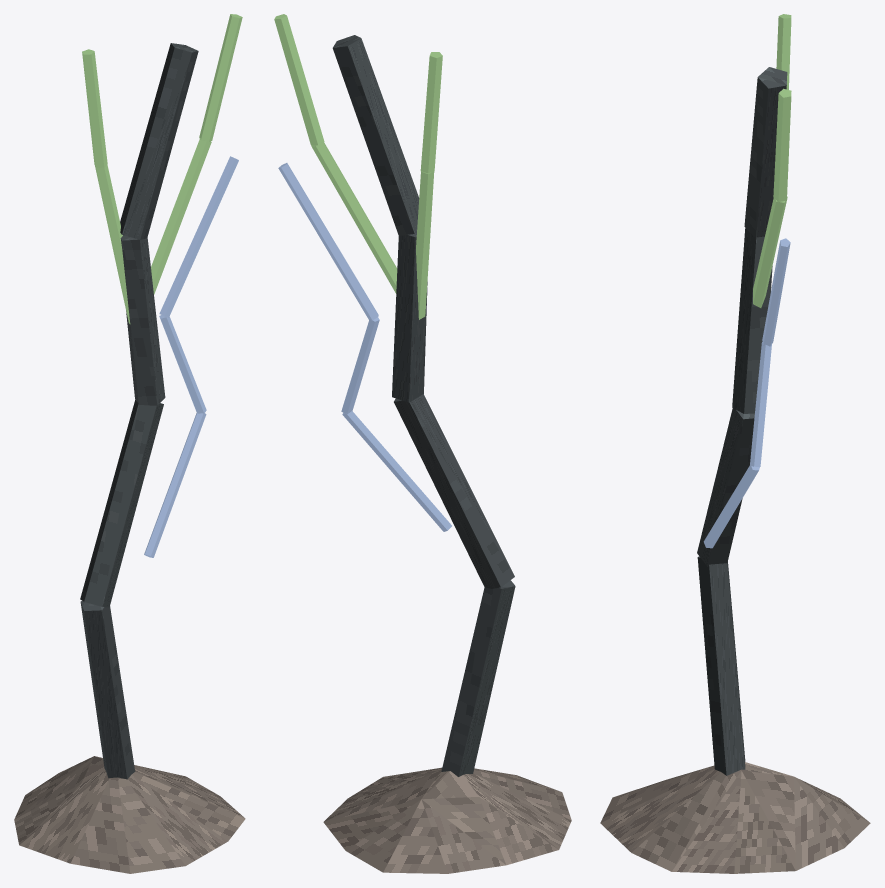
Rendered from f_alien_zapper.glb.
3 views of the same model, side by side, from view 1: azimuth 30°, elevation 25°; view 2: azimuth 150°, elevation 25°; view 3: azimuth 270°, elevation 25° (orthographic). The views are drawn at different scales.
Visible parts, largest first — view 1: block_rooted-flesh, block_arching-spine-2, block_arching-spine-4, block_arching-spine-1, block_arching-spine-3, block_luminous-feeler-1 (×2), block_luminous-feeler-2 (×2), block_branch-of-light-3, block_branch-of-light-1, block_branch-of-light-2; view 2: block_rooted-flesh, block_arching-spine-2, block_arching-spine-4, block_arching-spine-1, block_arching-spine-3, block_luminous-feeler-1 (×2), block_luminous-feeler-2 (×2), block_branch-of-light-3, block_branch-of-light-1, block_branch-of-light-2; view 3: block_rooted-flesh, block_arching-spine-1, block_arching-spine-4, block_arching-spine-3, block_arching-spine-2, block_luminous-feeler-2 (×2), block_luminous-feeler-1, block_branch-of-light-2, block_branch-of-light-3, block_branch-of-light-1.
Part boxes in pixels (x1,y1,x2,y2): block_rooted-flesh: [14, 756, 245, 873]; block_arching-spine-2: [80, 400, 163, 607]; block_arching-spine-4: [120, 43, 198, 239]; block_arching-spine-1: [80, 601, 135, 779]; block_arching-spine-3: [120, 235, 165, 405]; block_luminous-feeler-1 (×2): [95, 138, 211, 324]; block_luminous-feeler-2 (×2): [82, 14, 242, 167]; block_branch-of-light-3: [159, 156, 238, 317]; block_branch-of-light-1: [144, 413, 206, 557]; block_branch-of-light-2: [159, 315, 206, 413]; block_rooted-flesh: [323, 767, 571, 873]; block_arching-spine-2: [394, 394, 514, 588]; block_arching-spine-4: [332, 35, 419, 235]; block_arching-spine-1: [441, 580, 515, 776]; block_arching-spine-3: [392, 233, 427, 402]; block_luminous-feeler-1 (×2): [311, 141, 434, 319]; block_luminous-feeler-2 (×2): [274, 14, 442, 173]; block_branch-of-light-3: [278, 163, 378, 320]; block_branch-of-light-1: [342, 411, 451, 531]; block_branch-of-light-2: [341, 317, 379, 414]; block_rooted-flesh: [600, 762, 870, 873]; block_arching-spine-1: [697, 556, 745, 775]; block_arching-spine-4: [744, 67, 787, 237]; block_arching-spine-3: [732, 228, 772, 413]; block_arching-spine-2: [697, 408, 754, 566]; block_luminous-feeler-2 (×2): [773, 14, 791, 202]; block_luminous-feeler-1: [753, 196, 787, 307]; block_branch-of-light-2: [750, 342, 771, 466]; block_branch-of-light-3: [762, 238, 790, 346]; block_branch-of-light-1: [703, 465, 759, 548].
Bounding box in the file's own units: 0.5658 × 1.65 × 0.5048.
Materials: 2 (2 with a texture image).
